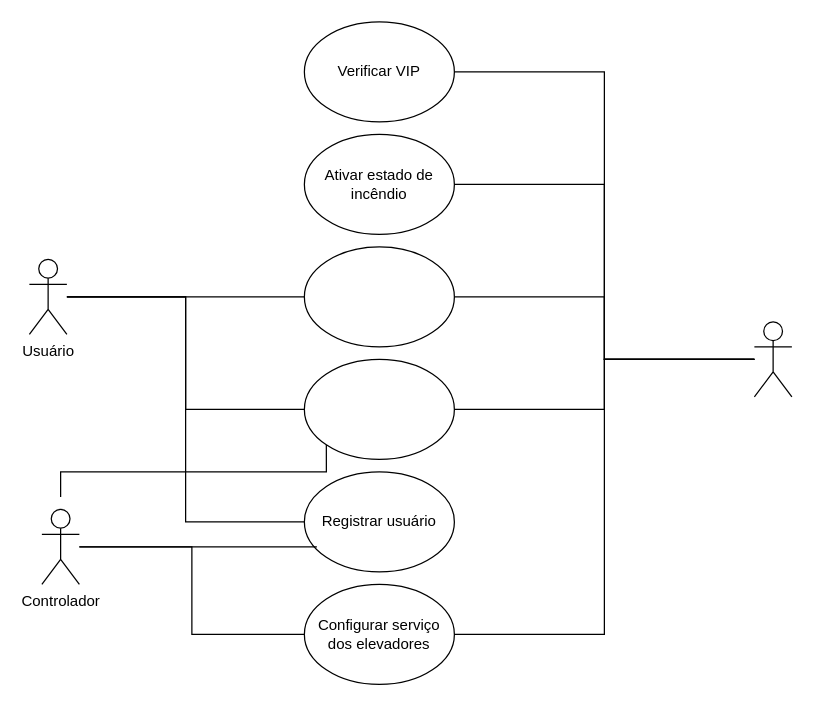
The diagram is 824 pixels wide and 706 high, and some of its shapes have lost their labels. Each missing label, with the centre of its shape:
"Ativar estado de emergência" belongs at point (378, 296).
"Chamar Elevador" belongs at point (378, 408).
"Elevador" belongs at point (772, 359).
